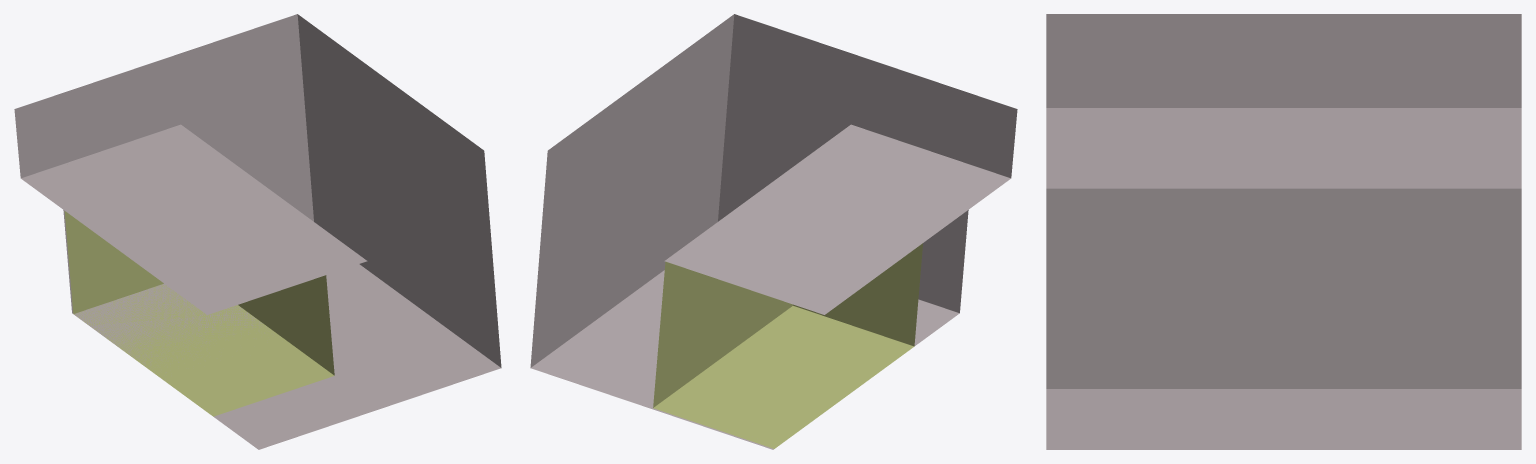
3 renders of one model, left to right at view 1: azimuth 30°, elevation 25°; view 2: azimuth 150°, elevation 25°; view 3: azimuth 270°, elevation 25°, orthographic. The views are drawn at different scales.
Visible parts, largest first — view 1: 0_2_3_3_3_1_0_1_3_2_3; view 2: 0_2_3_3_3_1_0_1_3_2_3; view 3: 0_2_3_3_3_1_0_1_3_2_3.
Boxes of the visible parts, x1=… form: 0_2_3_3_3_1_0_1_3_2_3: x1=14, y1=14, x2=501, y2=449; 0_2_3_3_3_1_0_1_3_2_3: x1=530, y1=14, x2=1017, y2=449; 0_2_3_3_3_1_0_1_3_2_3: x1=1046, y1=14, x2=1521, y2=449.
Size of the model in its own units: 11.15 by 8.67 by 12.
